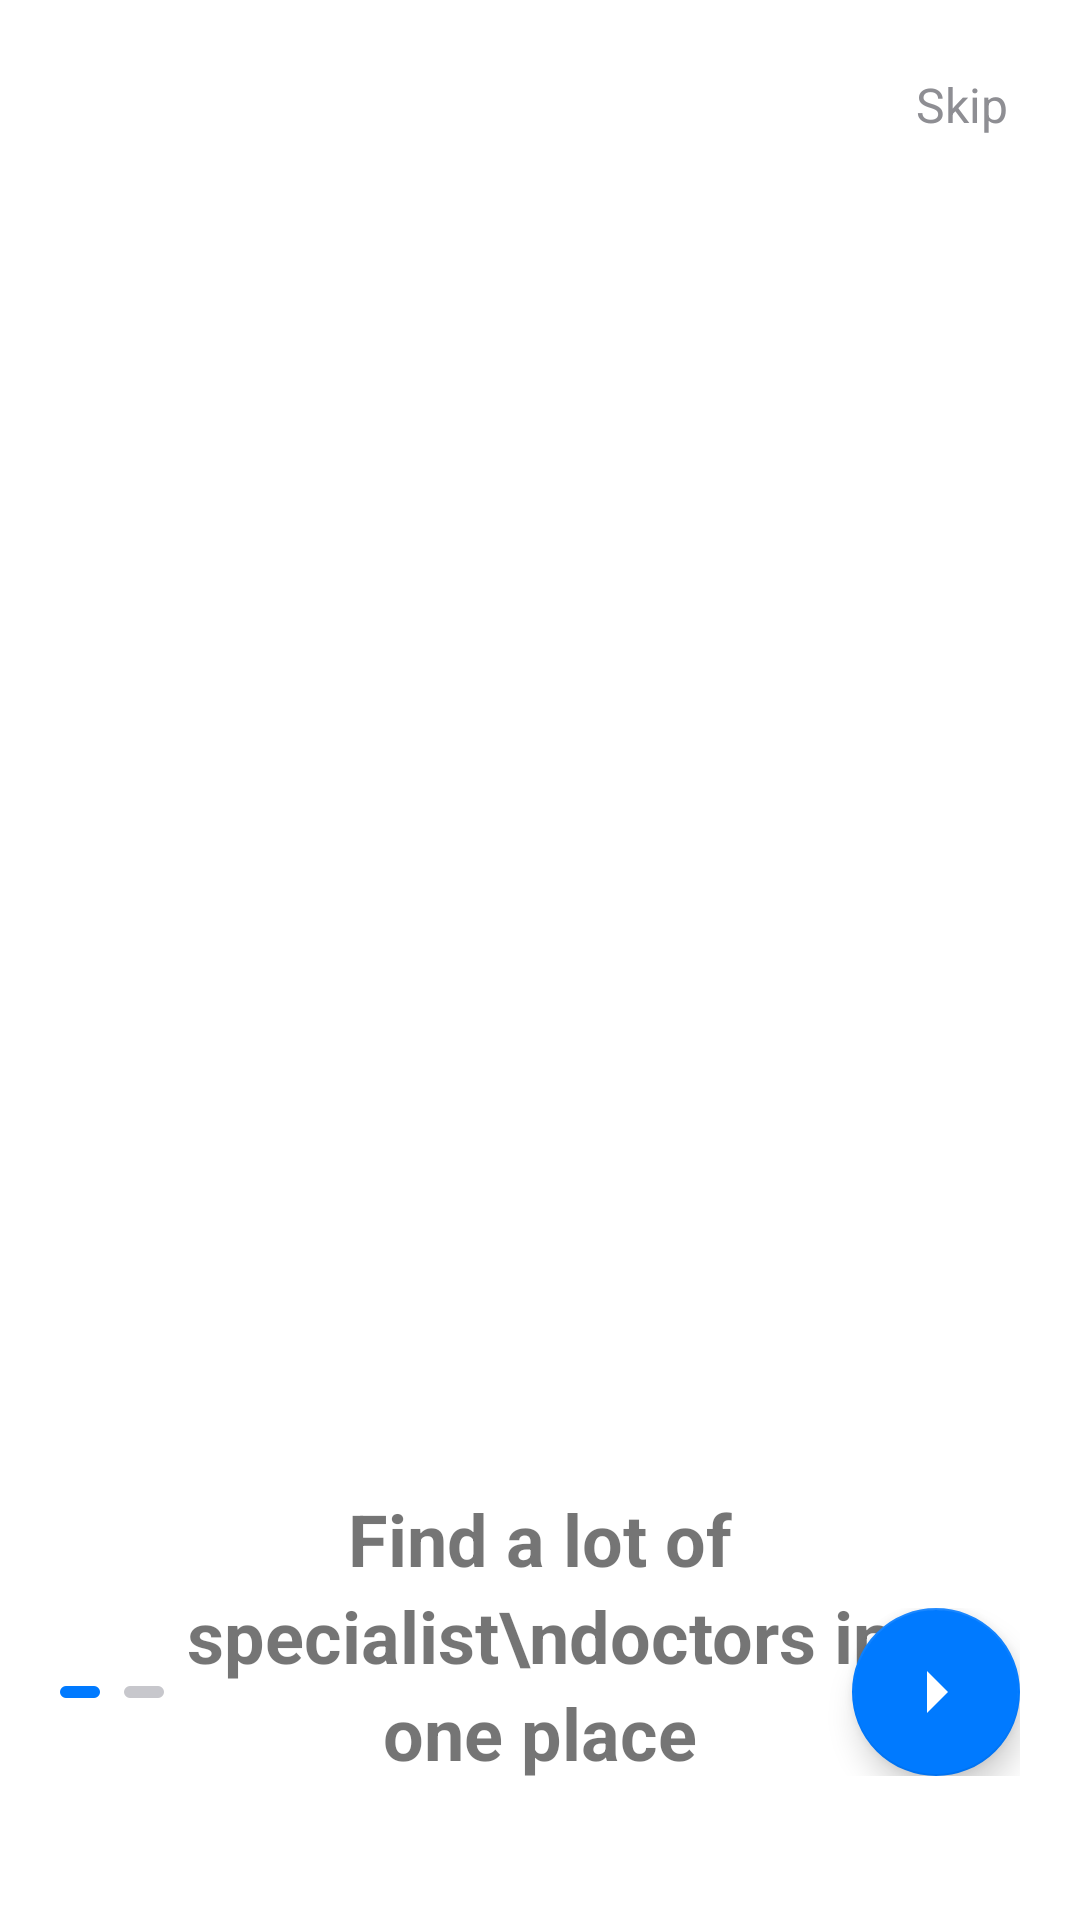

Named icons in this screenshot (1080 × 1920) and their bounding boxes, rect(x1, y1, x2, y2):
next: rect(852, 1608, 1020, 1776)
